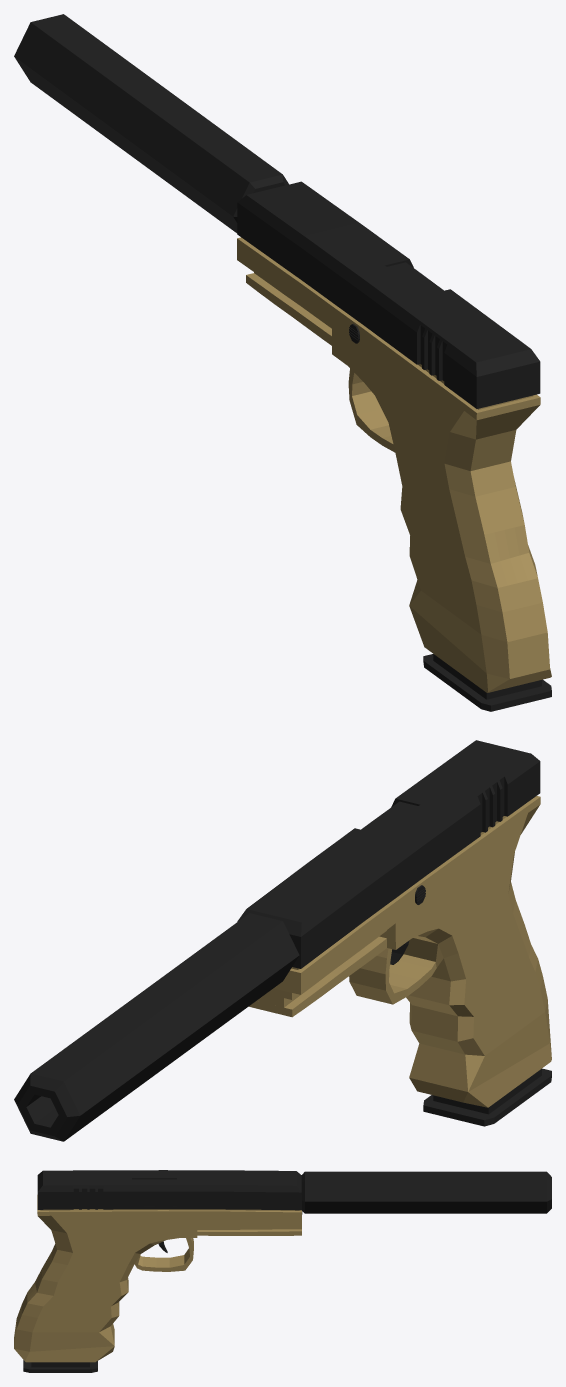
Rendered from Glock 1.fbx.
The picture shows the model from 3 angles, top to bottom: view 1: azimuth 30°, elevation 25°; view 2: azimuth 150°, elevation 25°; view 3: azimuth 270°, elevation 25°; orthographic projection. The views are drawn at different scales.
Parts seen in each view (by area): view 1: Glock, Silencer; view 2: Glock, Silencer; view 3: Glock, Silencer.
Boxes of the visible parts, x1,y1,x2,y2 form: Glock: (237,181,551,711); Silencer: (14,14,288,233); Glock: (237,740,551,1126); Silencer: (14,913,299,1141); Glock: (14,1170,302,1372); Silencer: (301,1171,551,1213).
Bounding box in the file's own units: 112 × 519 × 1351.
